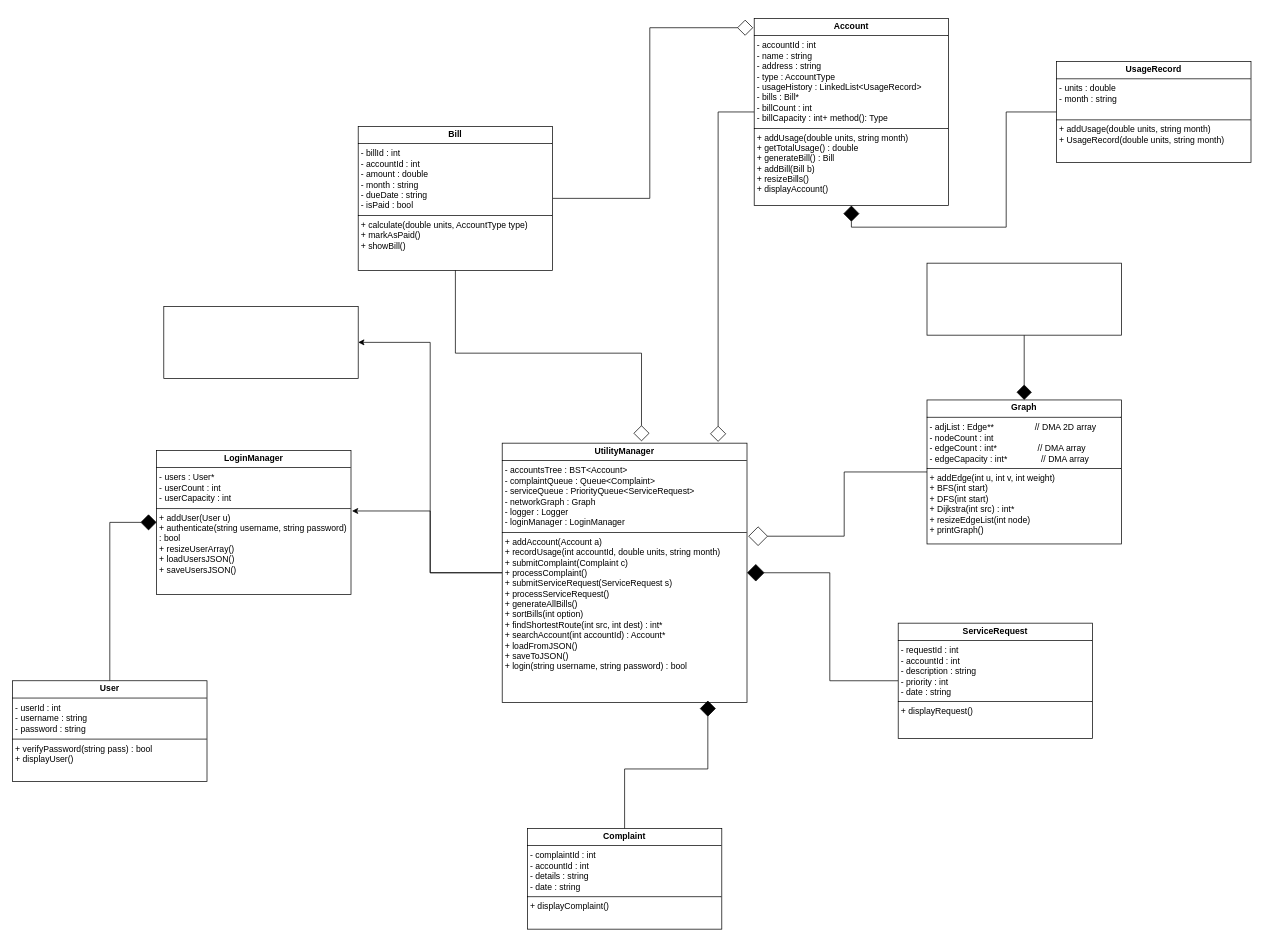
This 1264x942 diagram has some shape labels left out. The shapes that lost their labels are listed below. From the top down, each one's centre as x and y in pixels, then its label:
At (x=1023, y=298): "Edge - to : int - weight : int + Edge(int to, int weight)".
At (x=260, y=342): "Logger - filename : string + log(string message) + clear()".
